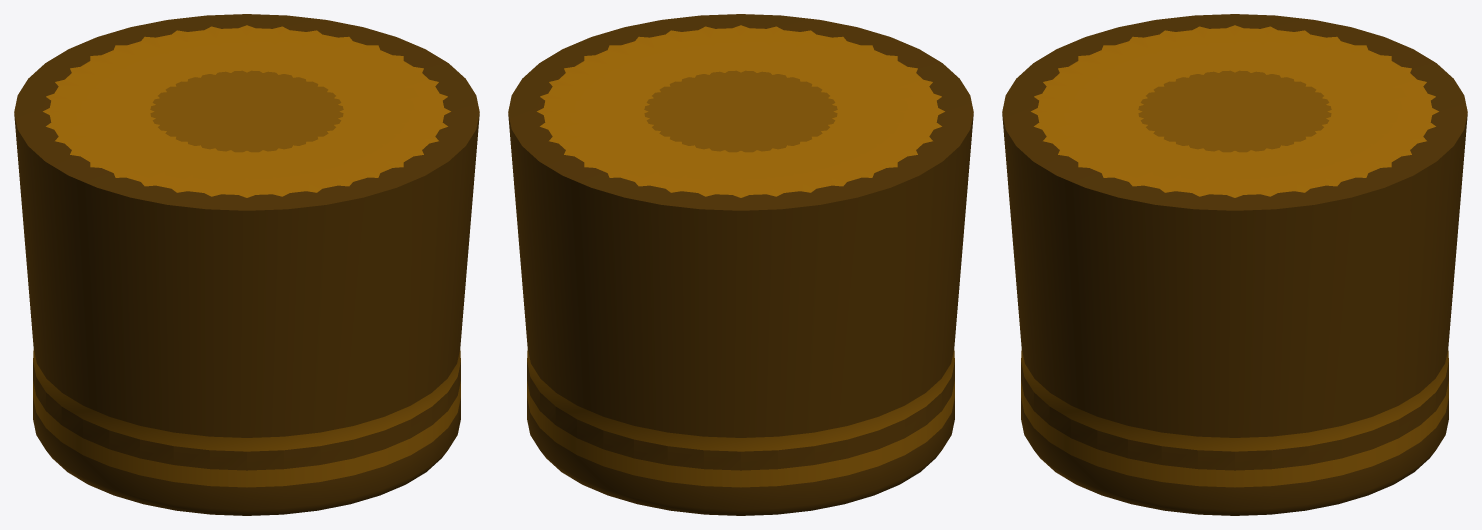
Rendered from Cake.fbx.
The picture shows the model from 3 angles, left to right: view 1: azimuth 30°, elevation 25°; view 2: azimuth 150°, elevation 25°; view 3: azimuth 270°, elevation 25°; orthographic projection.
Visible parts, largest first — view 1: Cake; view 2: Cake; view 3: Cake.
Part boxes in pixels (box(x1,y1,x2,y2)): Cake: box(14, 14, 479, 515); Cake: box(508, 14, 973, 515); Cake: box(1002, 14, 1467, 515).
Bounding box in the file's own units: 2.24 × 1.68 × 2.24.
